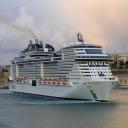cruises: (8, 32, 120, 105)
